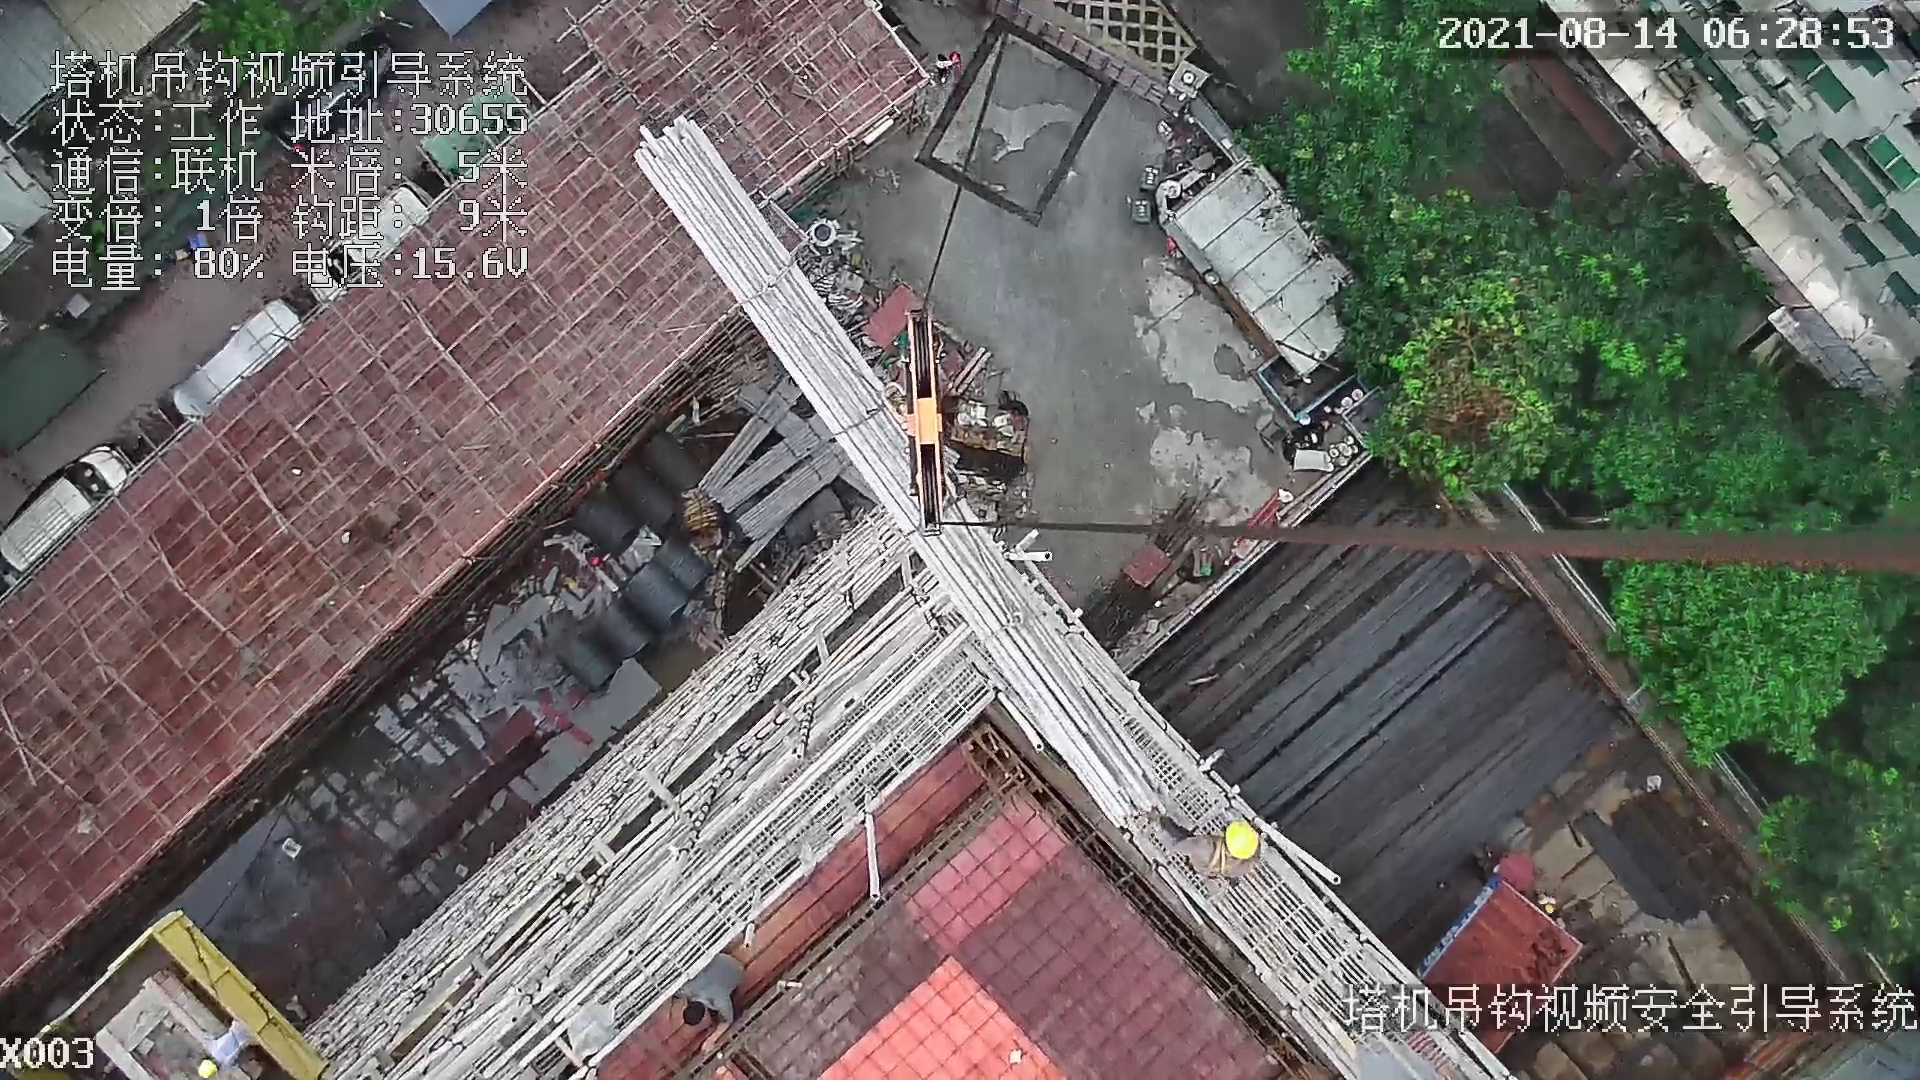helmet: (1223, 819, 1263, 863)
hook: (900, 307, 951, 536)
person: (1150, 807, 1263, 886)
rebar: (1242, 521, 1581, 889)
